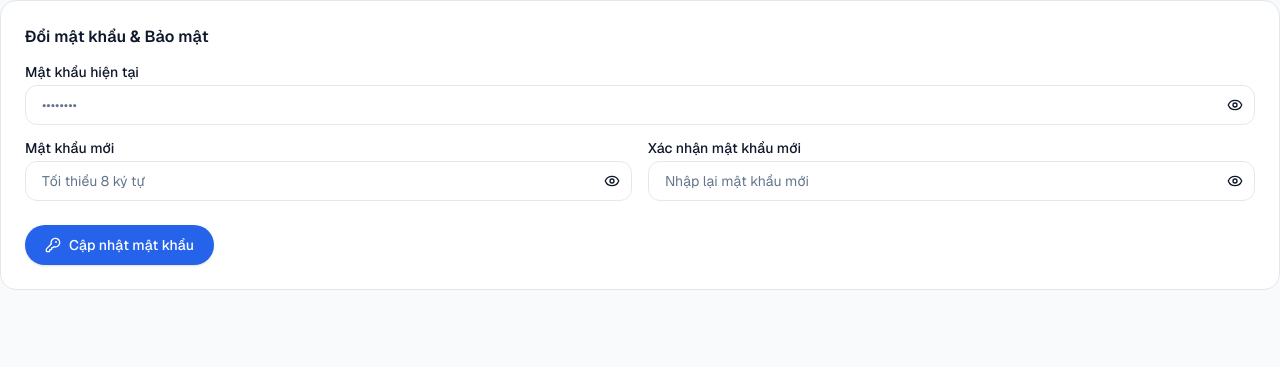
Test case: ChangePasswordGroup › shows validation error when new password is less than 8 characters
The width and height of the screenshot is (1280, 367).
Type "oldPassword123" into the password field labelled "Mật khẩu hiện tại" at (640, 105), box [25, 85, 1255, 125]
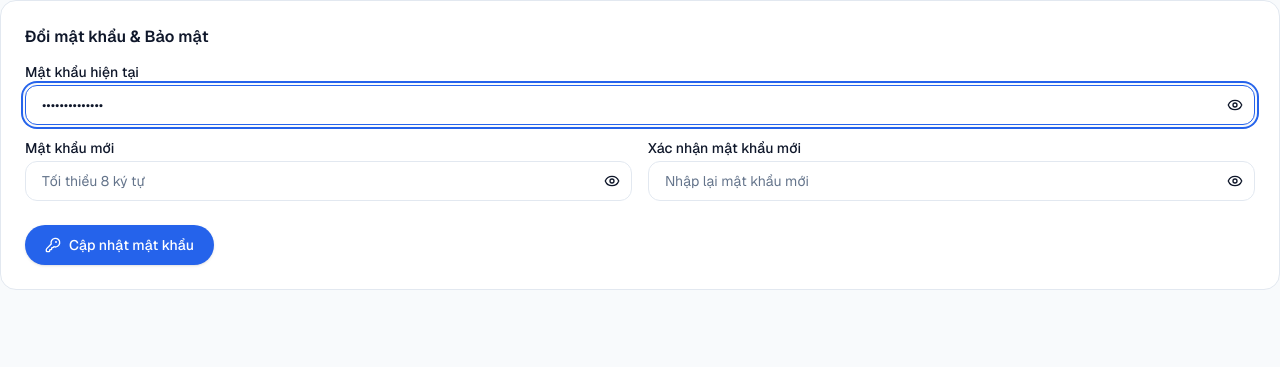
Type "short" into the password field labelled "Mật khẩu mới" at (328, 181), box [25, 161, 632, 201]
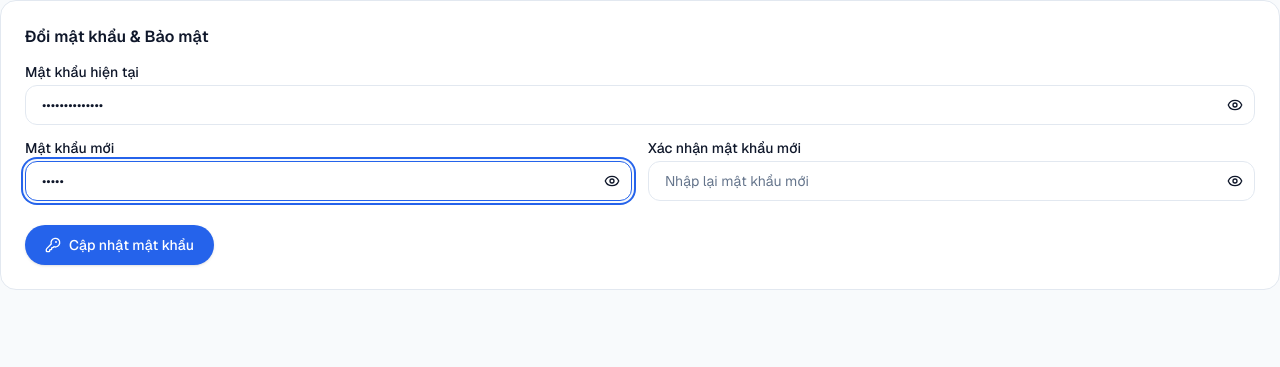
Type "short" into the password field labelled "Xác nhận mật khẩu mới" at (952, 181), box [648, 161, 1255, 201]
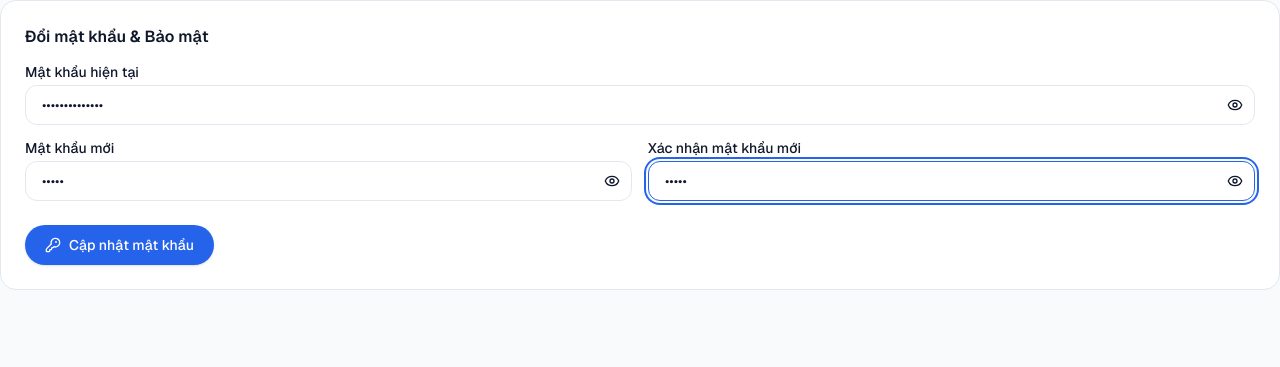
Click the button "Cập nhật mật khẩu" at (120, 245), box [25, 225, 214, 265]
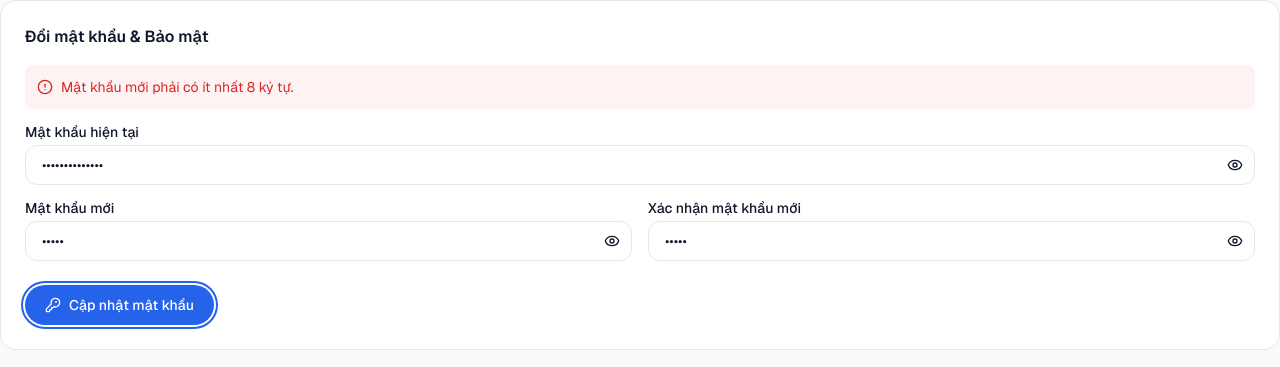
expect the text "Mật khẩu mới phải có ít nhất 8 ký tự." is shown: met, box [61, 77, 294, 97]
